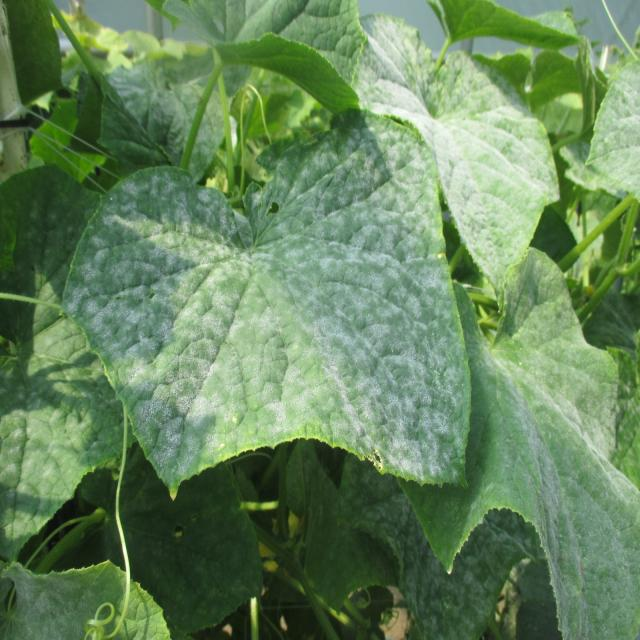Powdery Mildew: (61, 113, 473, 500)
